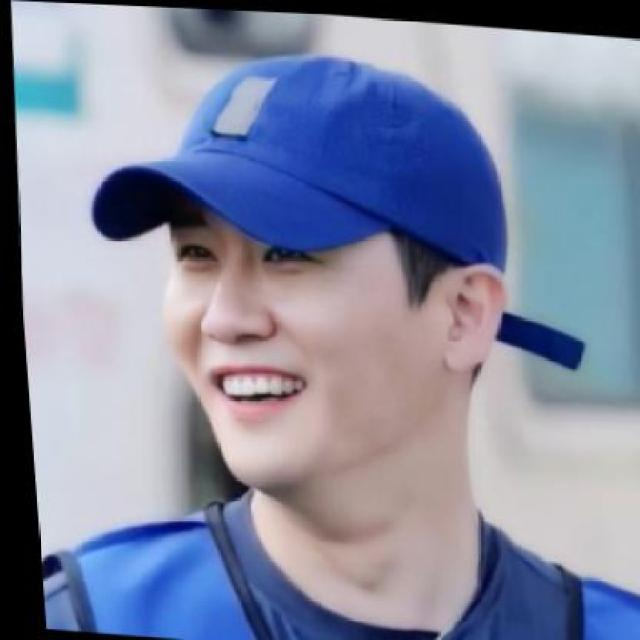hat: (72, 30, 517, 276)
